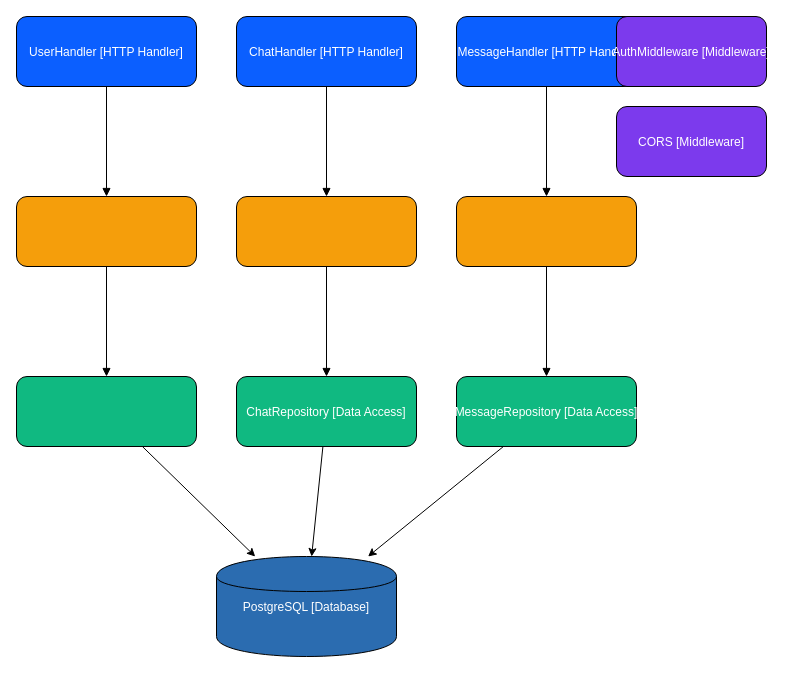
Image size: 786x673. Some labels were removed from this diagram. Each missing label, with the box of its shape:
ChatService [Business Logic]: (236, 196, 416, 266)
MessageService [Business Logic]: (456, 196, 636, 266)
UserRepository [Data Access]: (16, 376, 196, 446)
UserService [Business Logic]: (16, 196, 196, 266)
